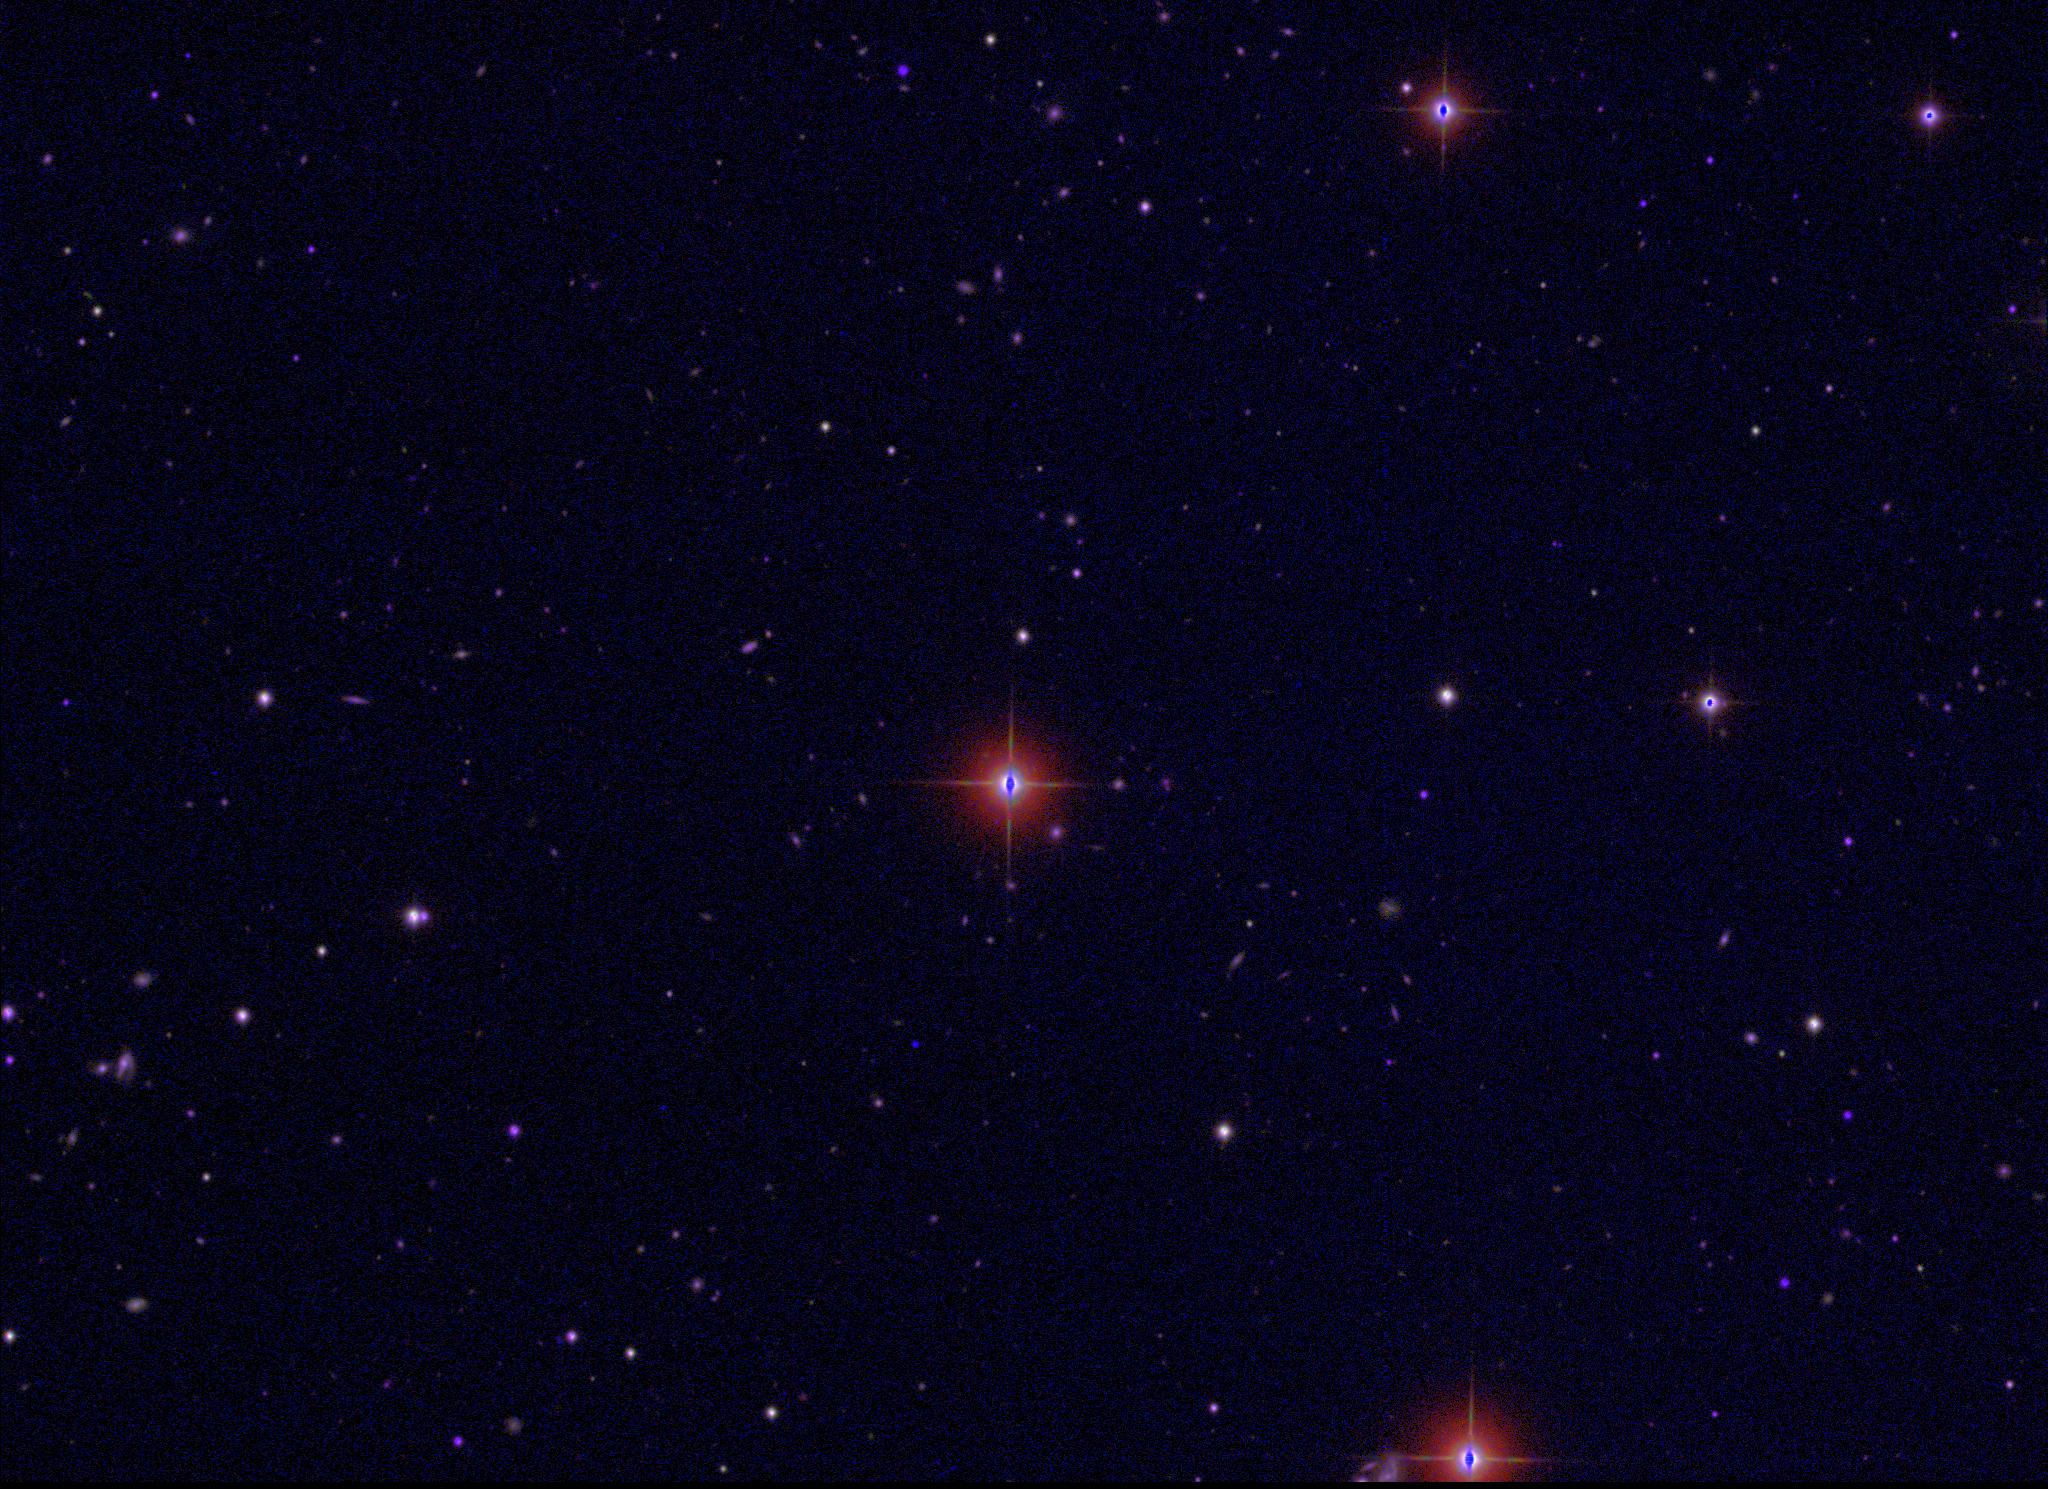L: (908, 1037, 922, 1052)
